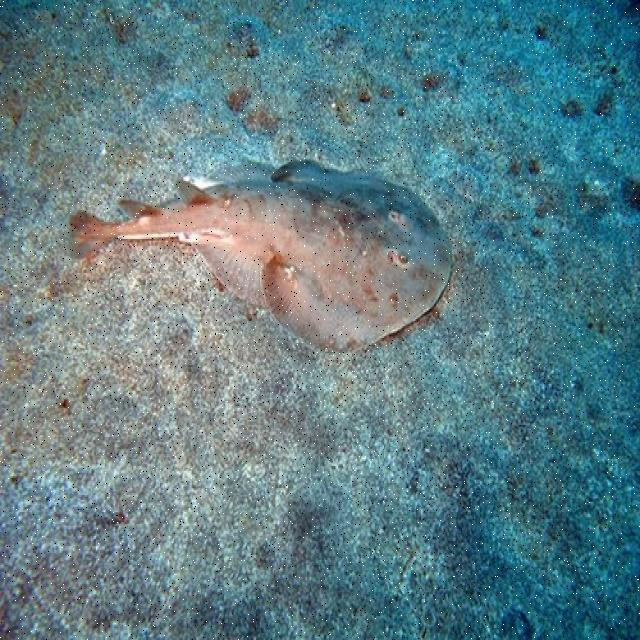fish: (66, 161, 452, 355)
